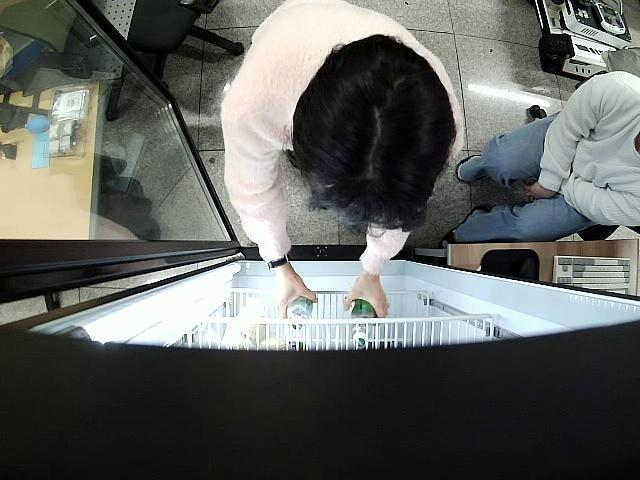18_trevi: (348, 300, 378, 348), (284, 294, 316, 332)
